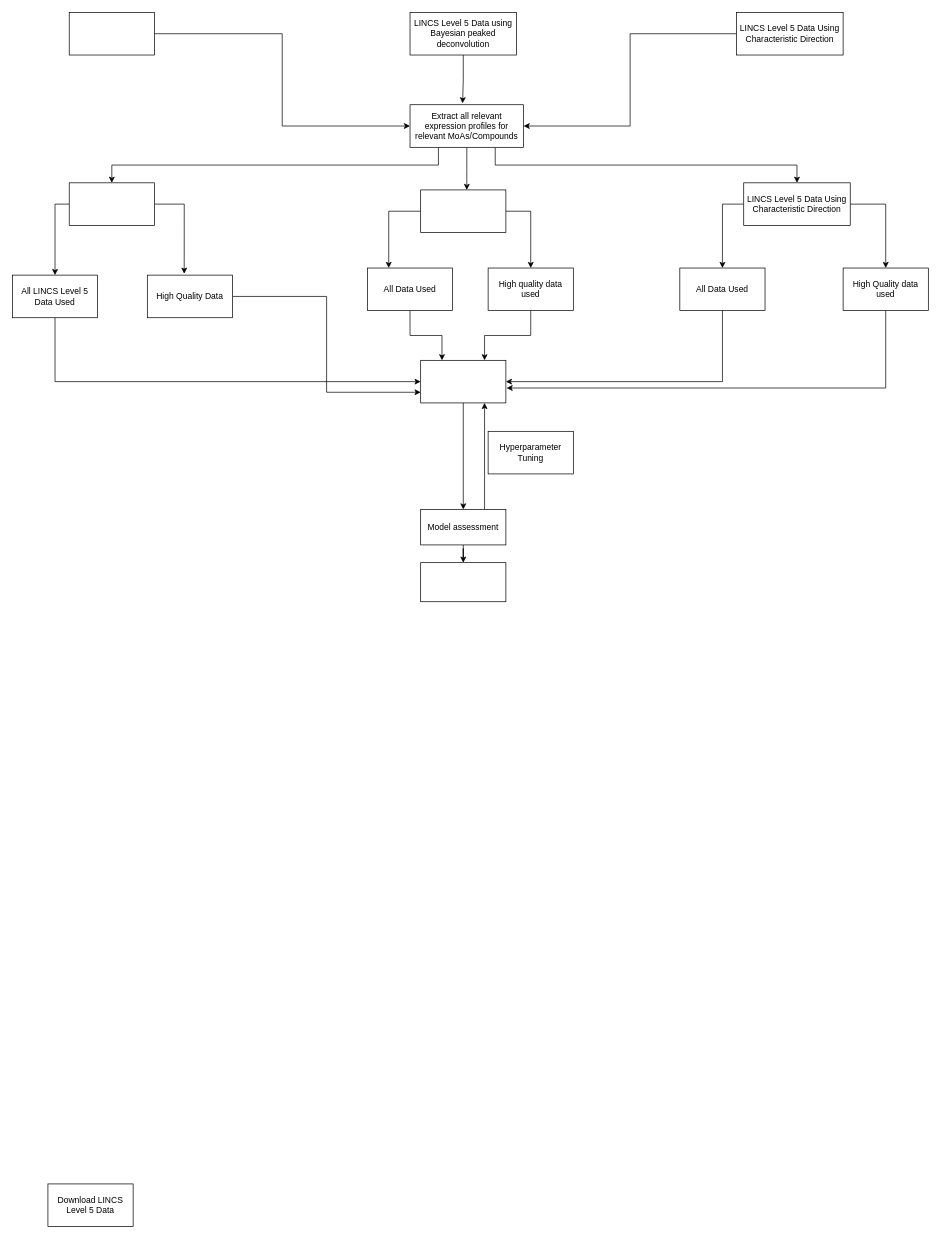
This 941x1239 diagram has some shape labels left out. Each missing label, with the centre of its shape:
Batter of Classifiers: the point at 463,381
Final Model evaluation: the point at 463,582
LINCS Level 5 Data: the point at 111,33
LINCS Level 5 Data using Bayesian peaked convolution with relevant MoAs: the point at 463,211
LINCS Level 5 Data with Relevant MoAs: the point at 111,203
